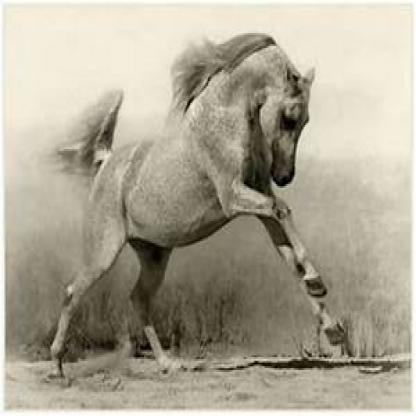horse: (49, 28, 355, 379)
